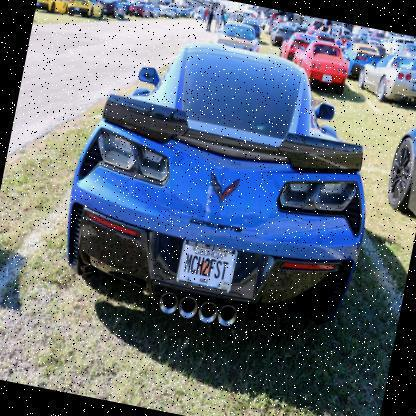License-Plate: (174, 236, 241, 296), (321, 73, 332, 83), (412, 81, 415, 93)
